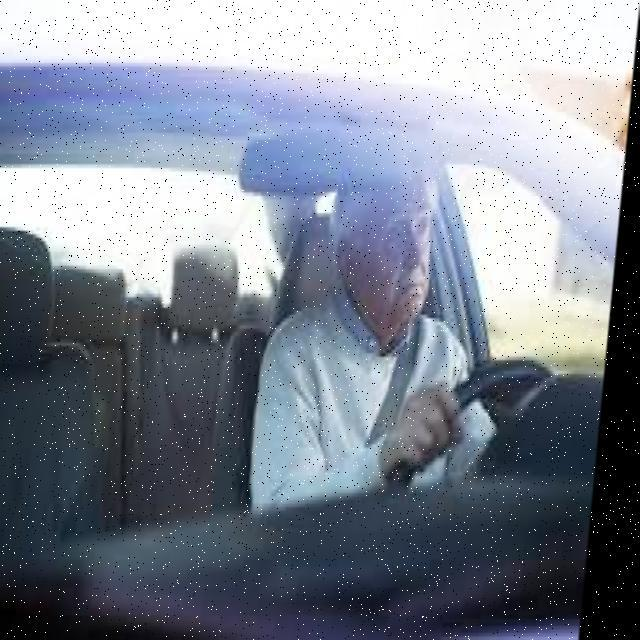seatbelt: (249, 292, 459, 499)
